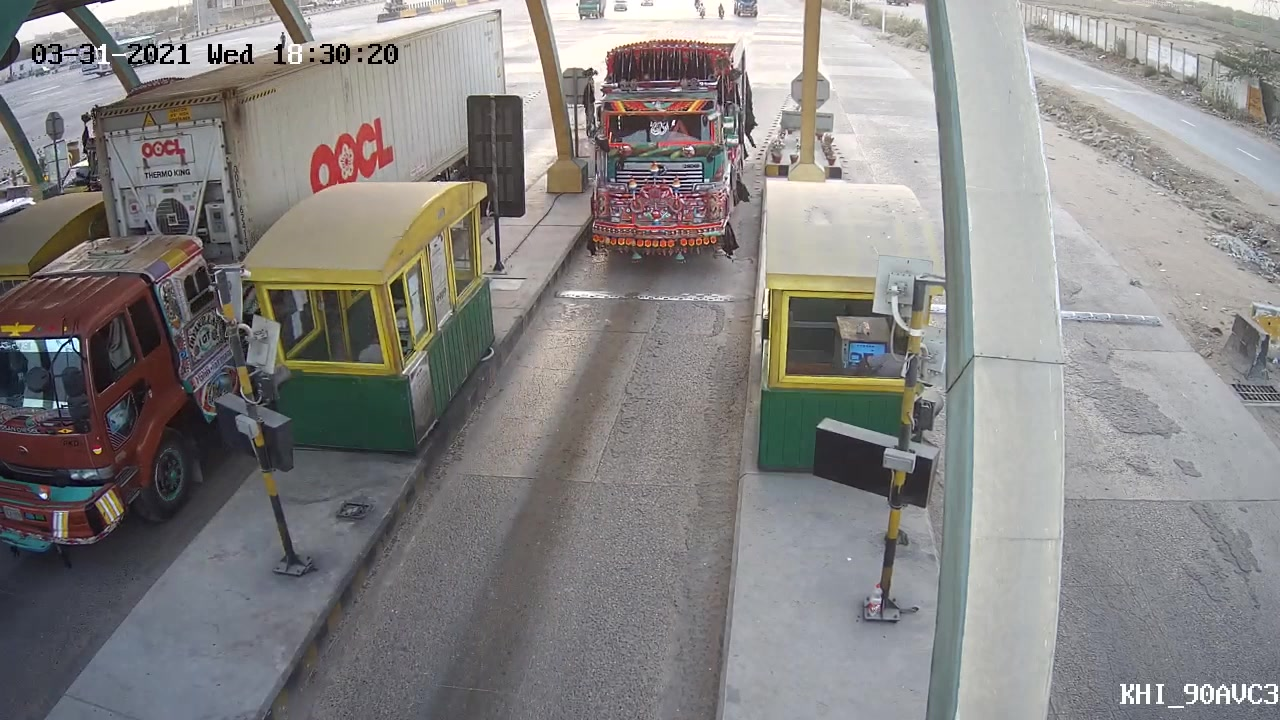F5: (569, 33, 769, 269)
